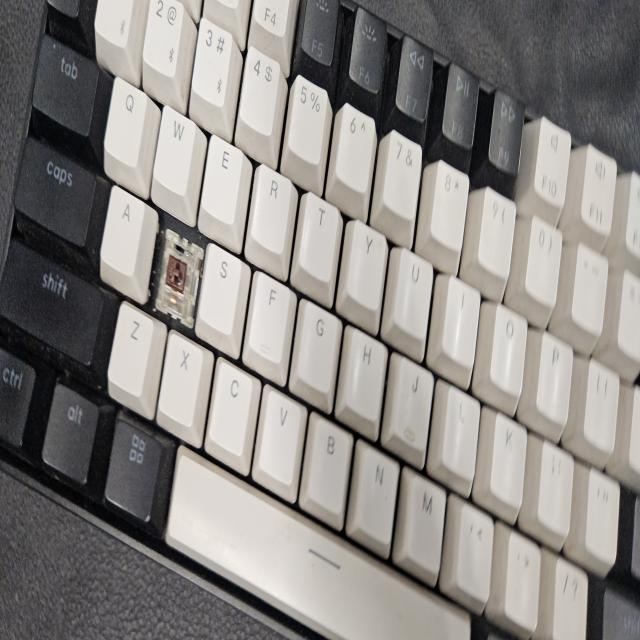C: (164, 246, 193, 320)
